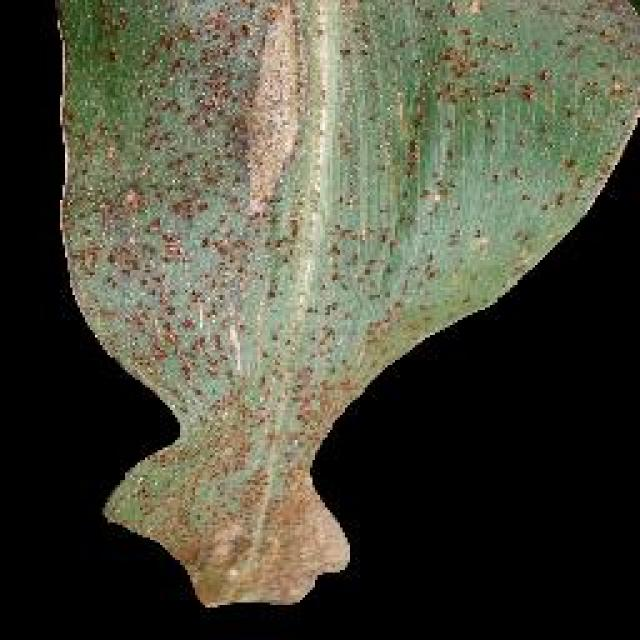Corn___Common_rust: (40, 2, 638, 638)
